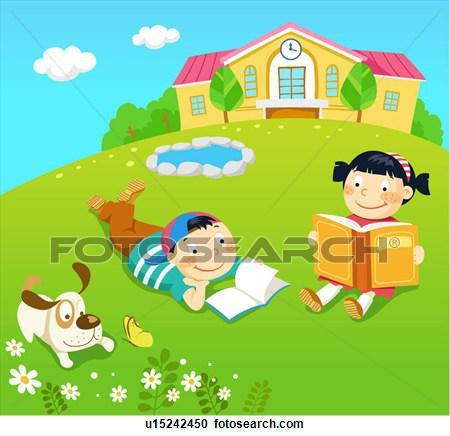dog: (14, 254, 118, 370)
person: (299, 147, 432, 323), (84, 177, 252, 311)
